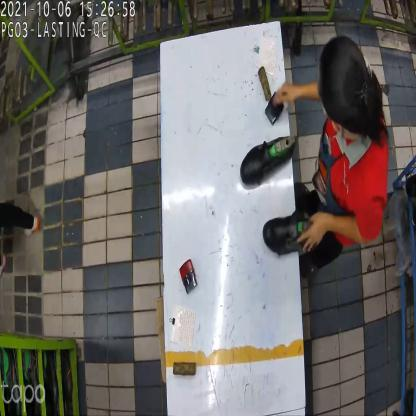shoes: (240, 134, 314, 254)
stamp: (264, 88, 284, 122), (181, 256, 198, 295)
